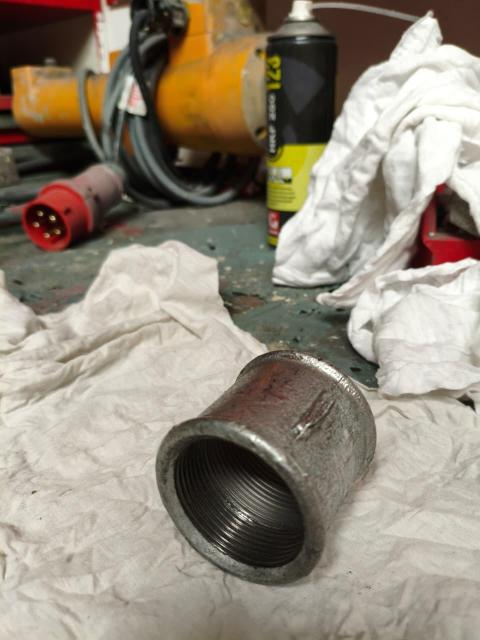Metal: (157, 347, 378, 587)
